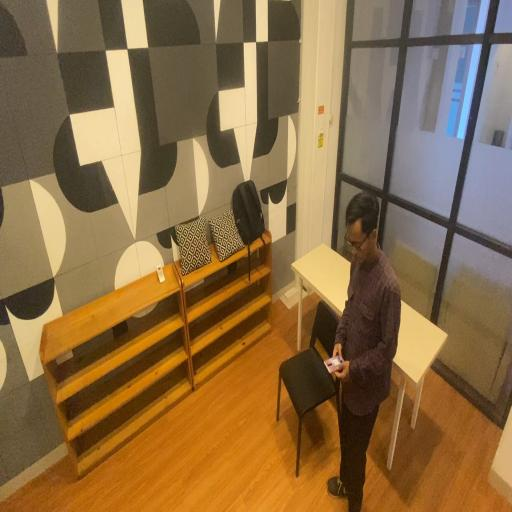bantal: (173, 214, 213, 274), (208, 207, 245, 265)
hp: (325, 351, 344, 374)
kursi: (274, 295, 327, 484)
remote AC: (38, 258, 194, 480), (155, 264, 168, 285)
tas ransel: (233, 180, 266, 243)
